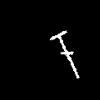double_crochet: (50, 31, 78, 77)
